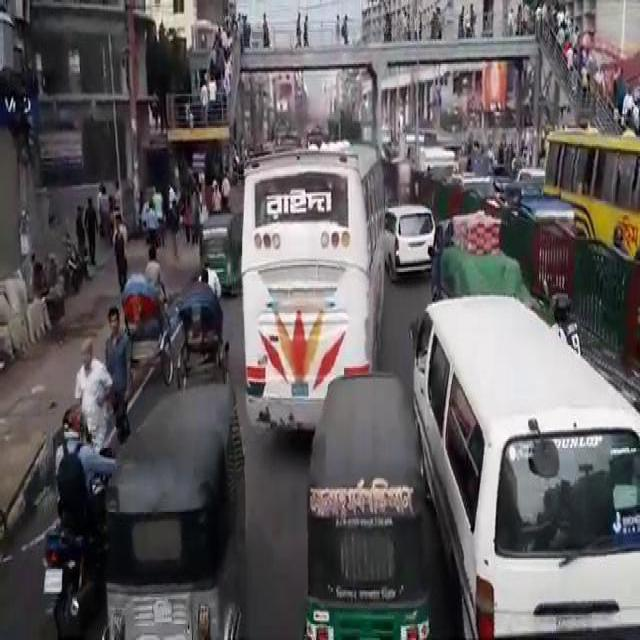Bus: (239, 130, 386, 436)
MiniBus: (407, 290, 639, 636)
